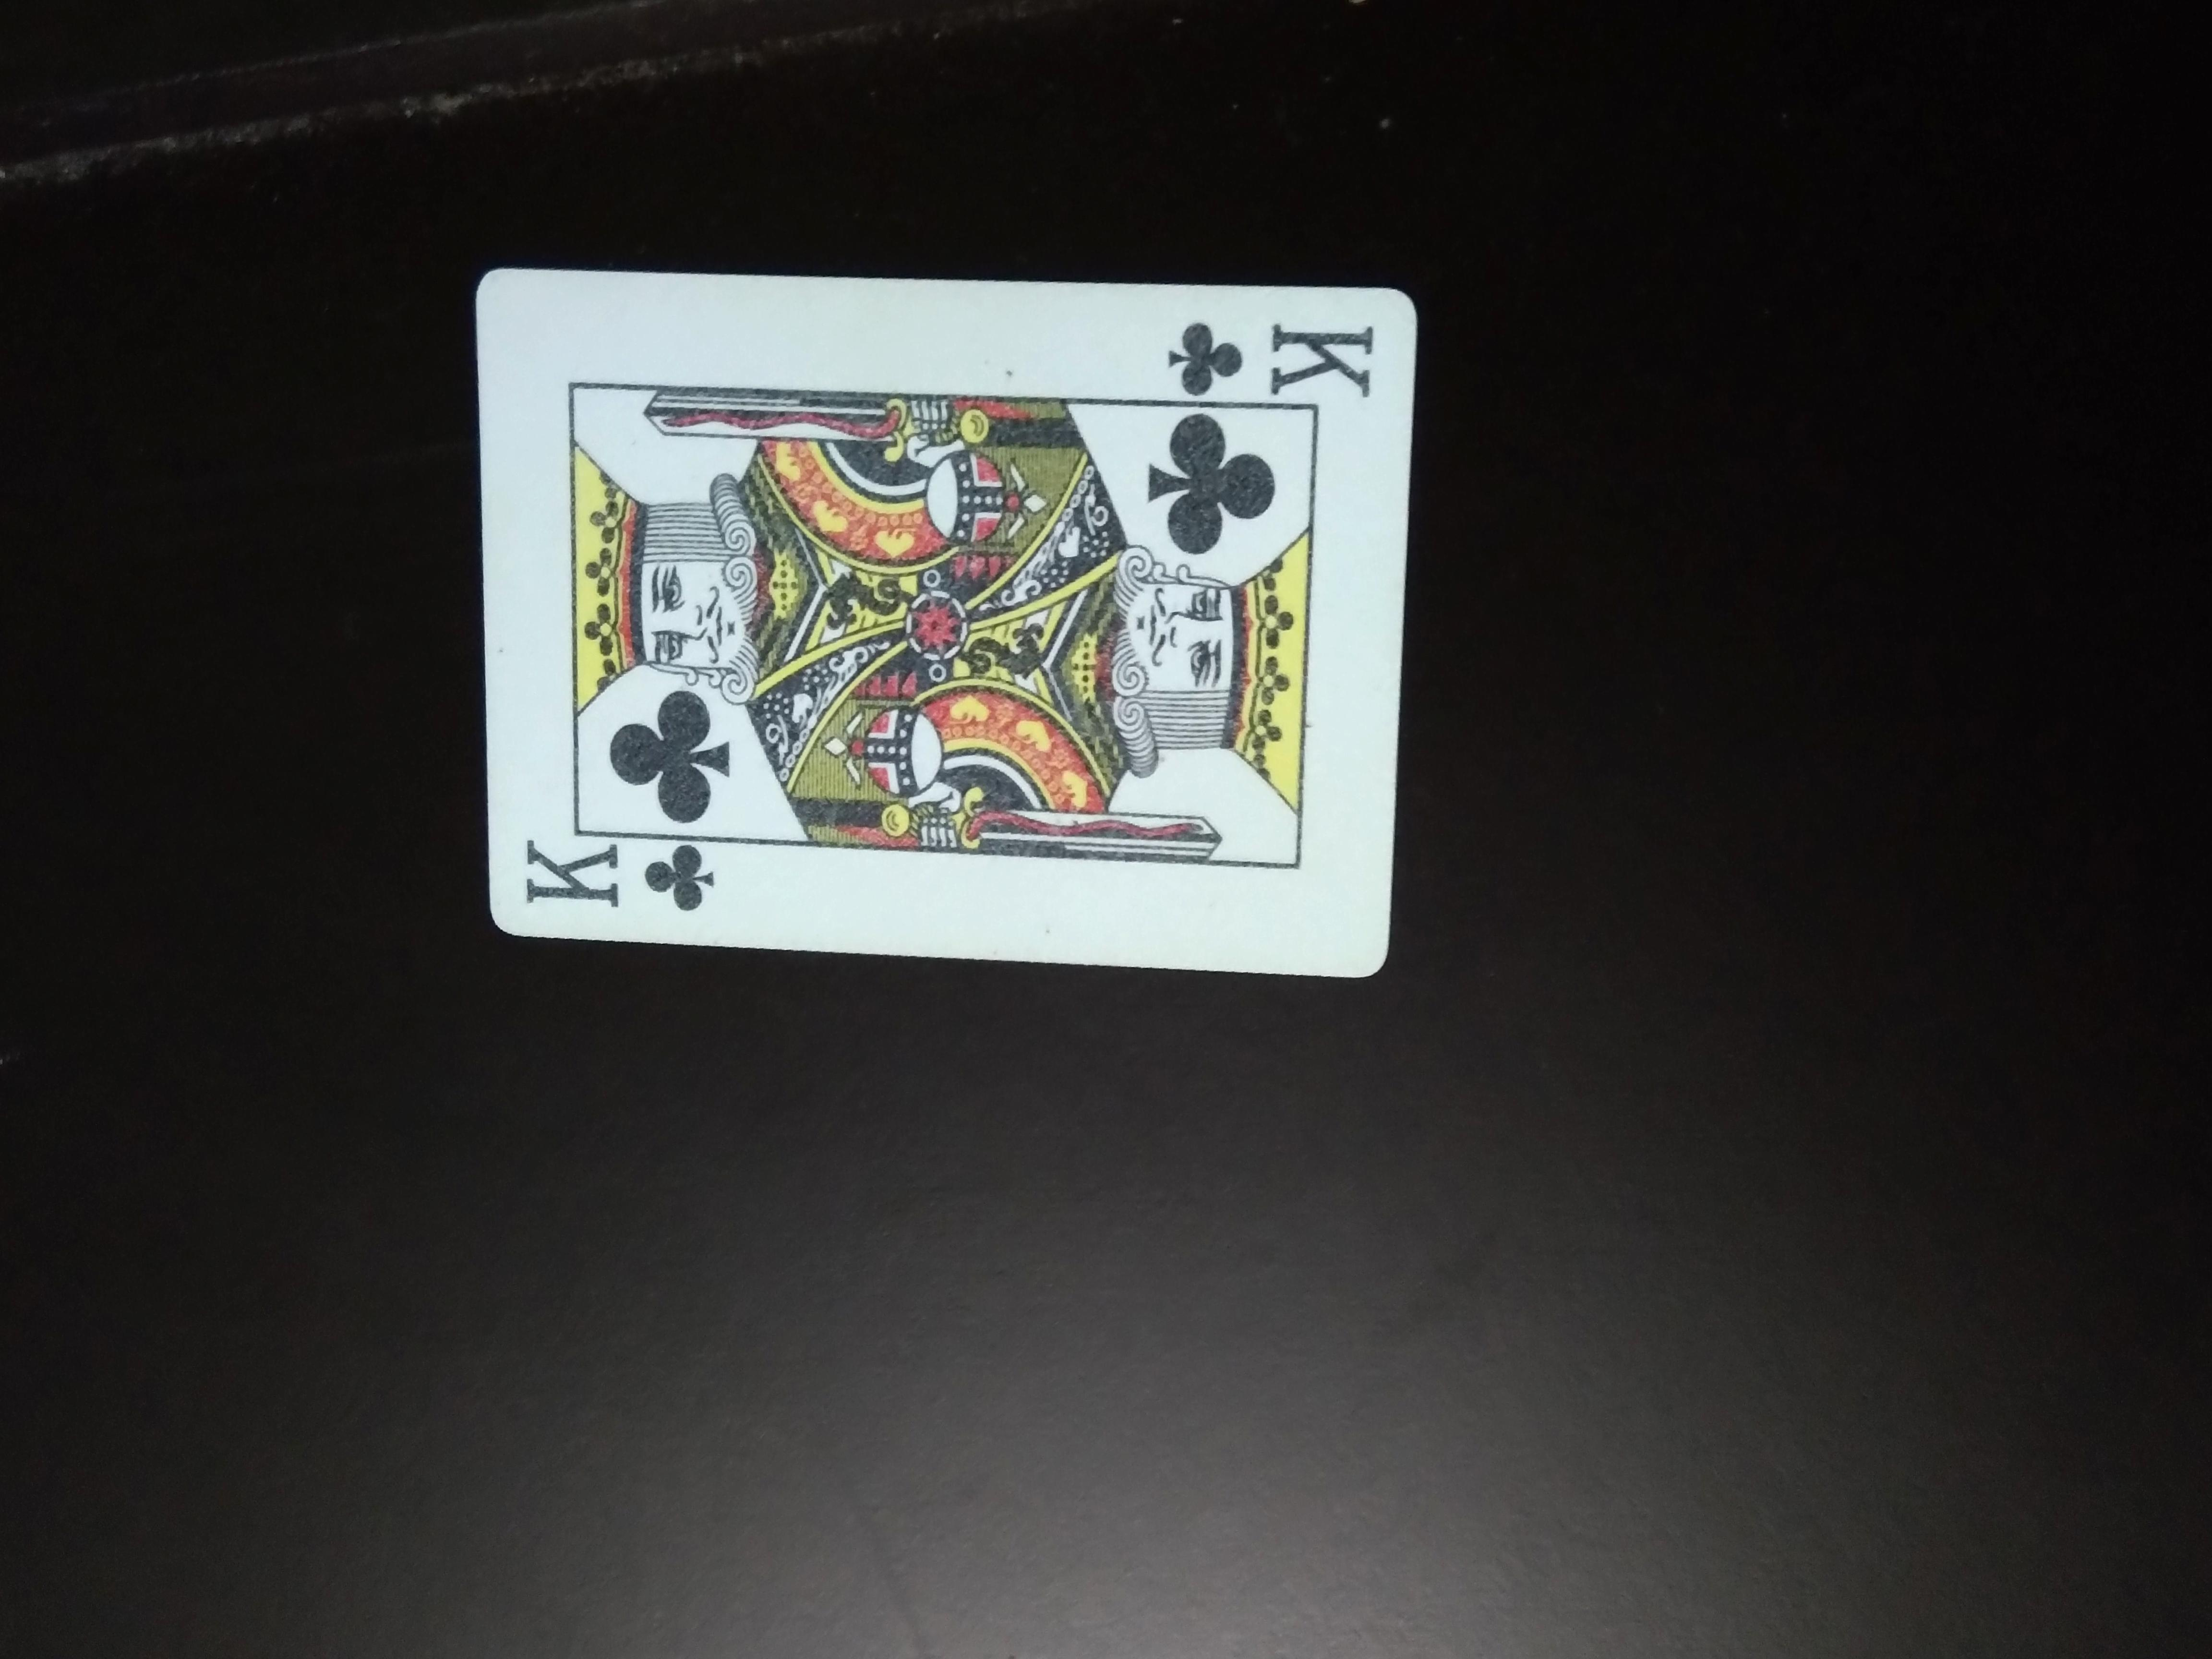KC: (1153, 307, 1386, 411)
